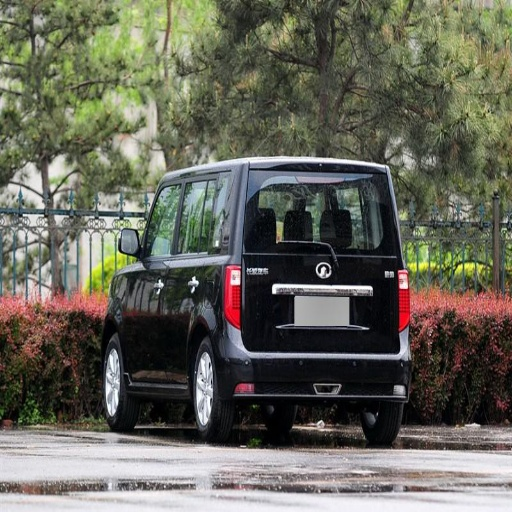back_bumper: (222, 329, 410, 401)
trunk: (225, 249, 394, 357), (121, 261, 230, 369)
